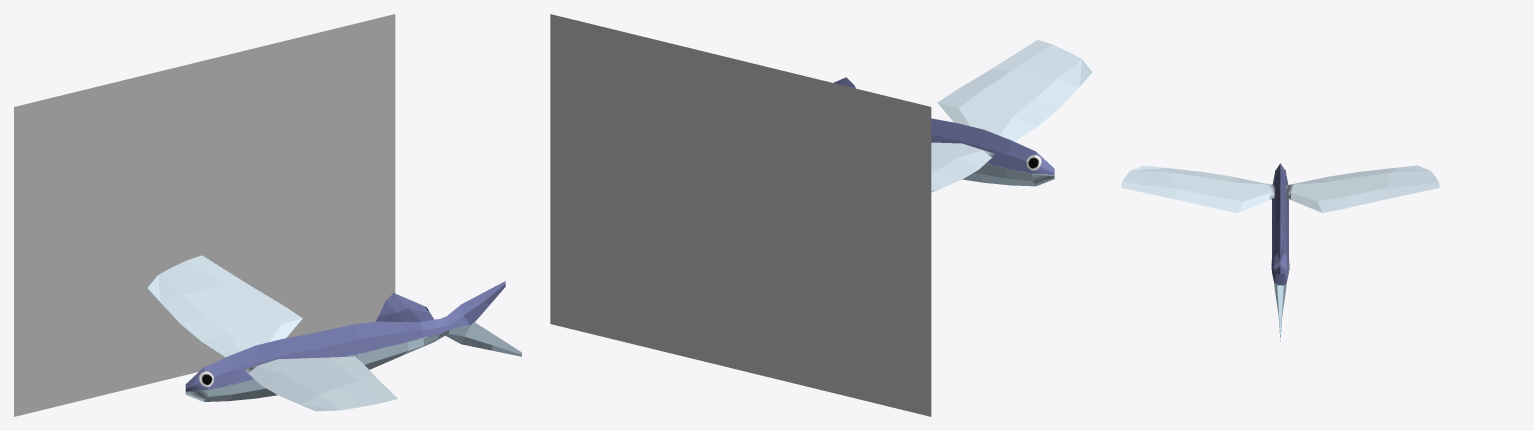
File: flyingfish.fbx
3 renders of one model, left to right at view 1: azimuth 30°, elevation 25°; view 2: azimuth 150°, elevation 25°; view 3: azimuth 270°, elevation 25°, orthographic. The views are drawn at different scales.
Visible parts, largest first — view 1: Plane001, Rectangle001; view 2: Plane001, Rectangle001; view 3: Rectangle001.
Boxes of the visible parts, left/top/right/bottom form: Plane001: left=14, top=14, right=395, bottom=416; Rectangle001: left=147, top=255, right=521, bottom=411; Plane001: left=550, top=14, right=931, bottom=416; Rectangle001: left=833, top=40, right=1092, bottom=192; Rectangle001: left=1121, top=163, right=1439, bottom=341.
Bounding box in the file's own units: 471 × 366 × 525.
